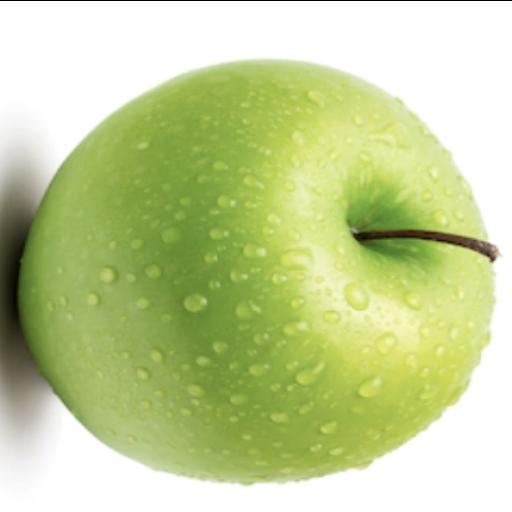apple: (17, 61, 491, 483)
